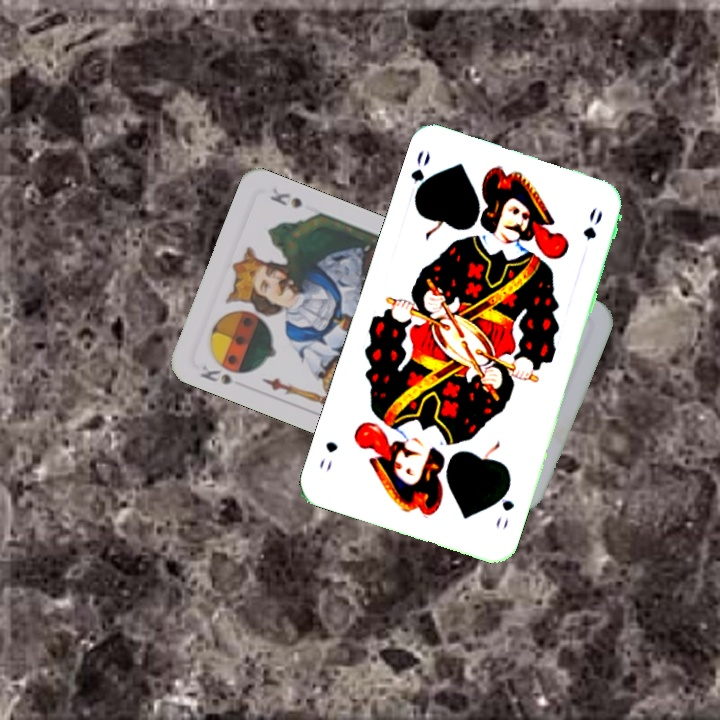GO: (406, 146, 435, 205), (491, 480, 517, 531)
SK: (196, 357, 251, 388)
